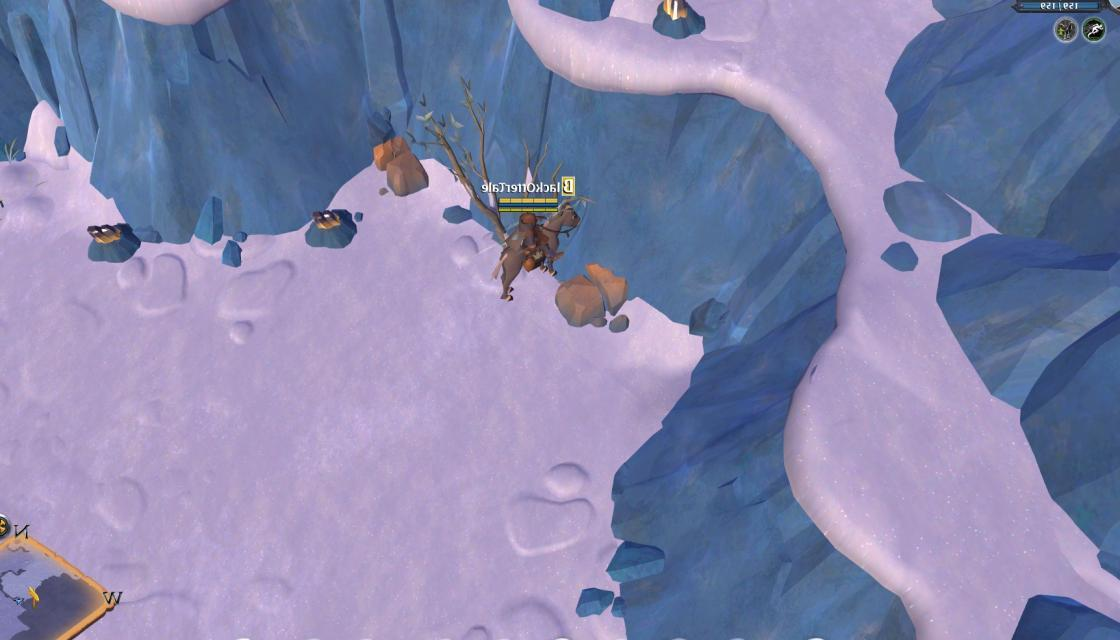copperore: (305, 198, 362, 252), (644, 0, 716, 40), (84, 216, 139, 266)
limestone: (552, 260, 636, 338), (370, 132, 437, 195)
